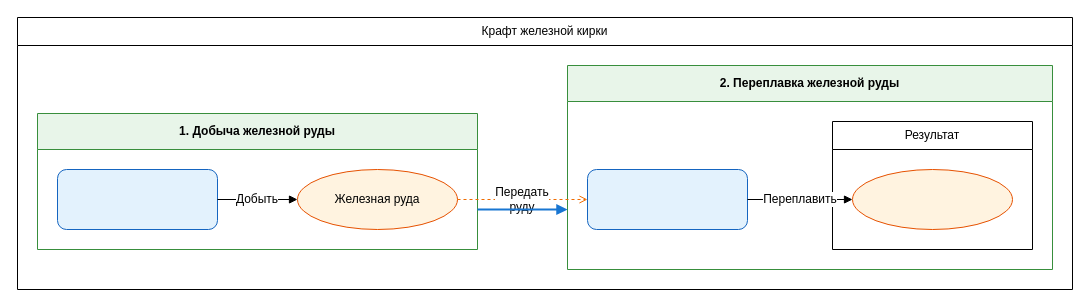
The diagram is 1090 pixels wide and 307 high, and some of its shapes have lost their labels. The shapes that lost their labels are listed below. From the top down, each one's centre as x and y in pixels, then its label:
[137,199]: Бурение
[667,199]: Загрузить печь
[932,199]: Железный слиток
